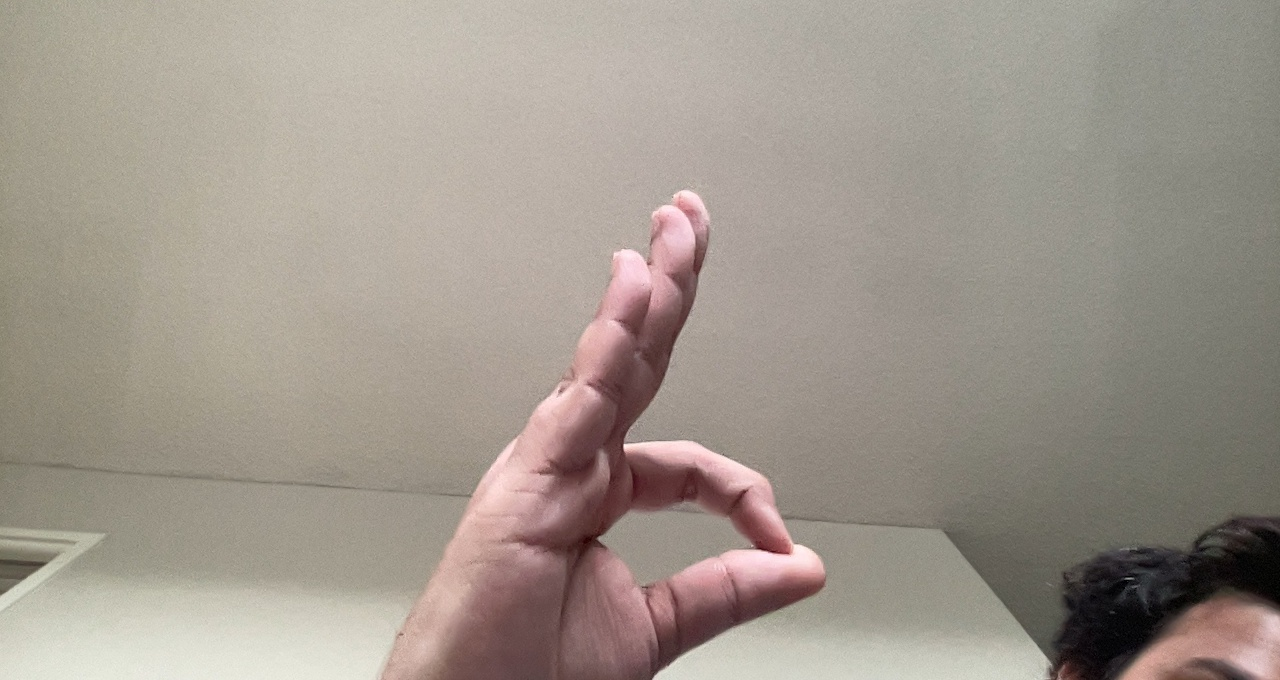ok: (389, 182, 833, 674)
